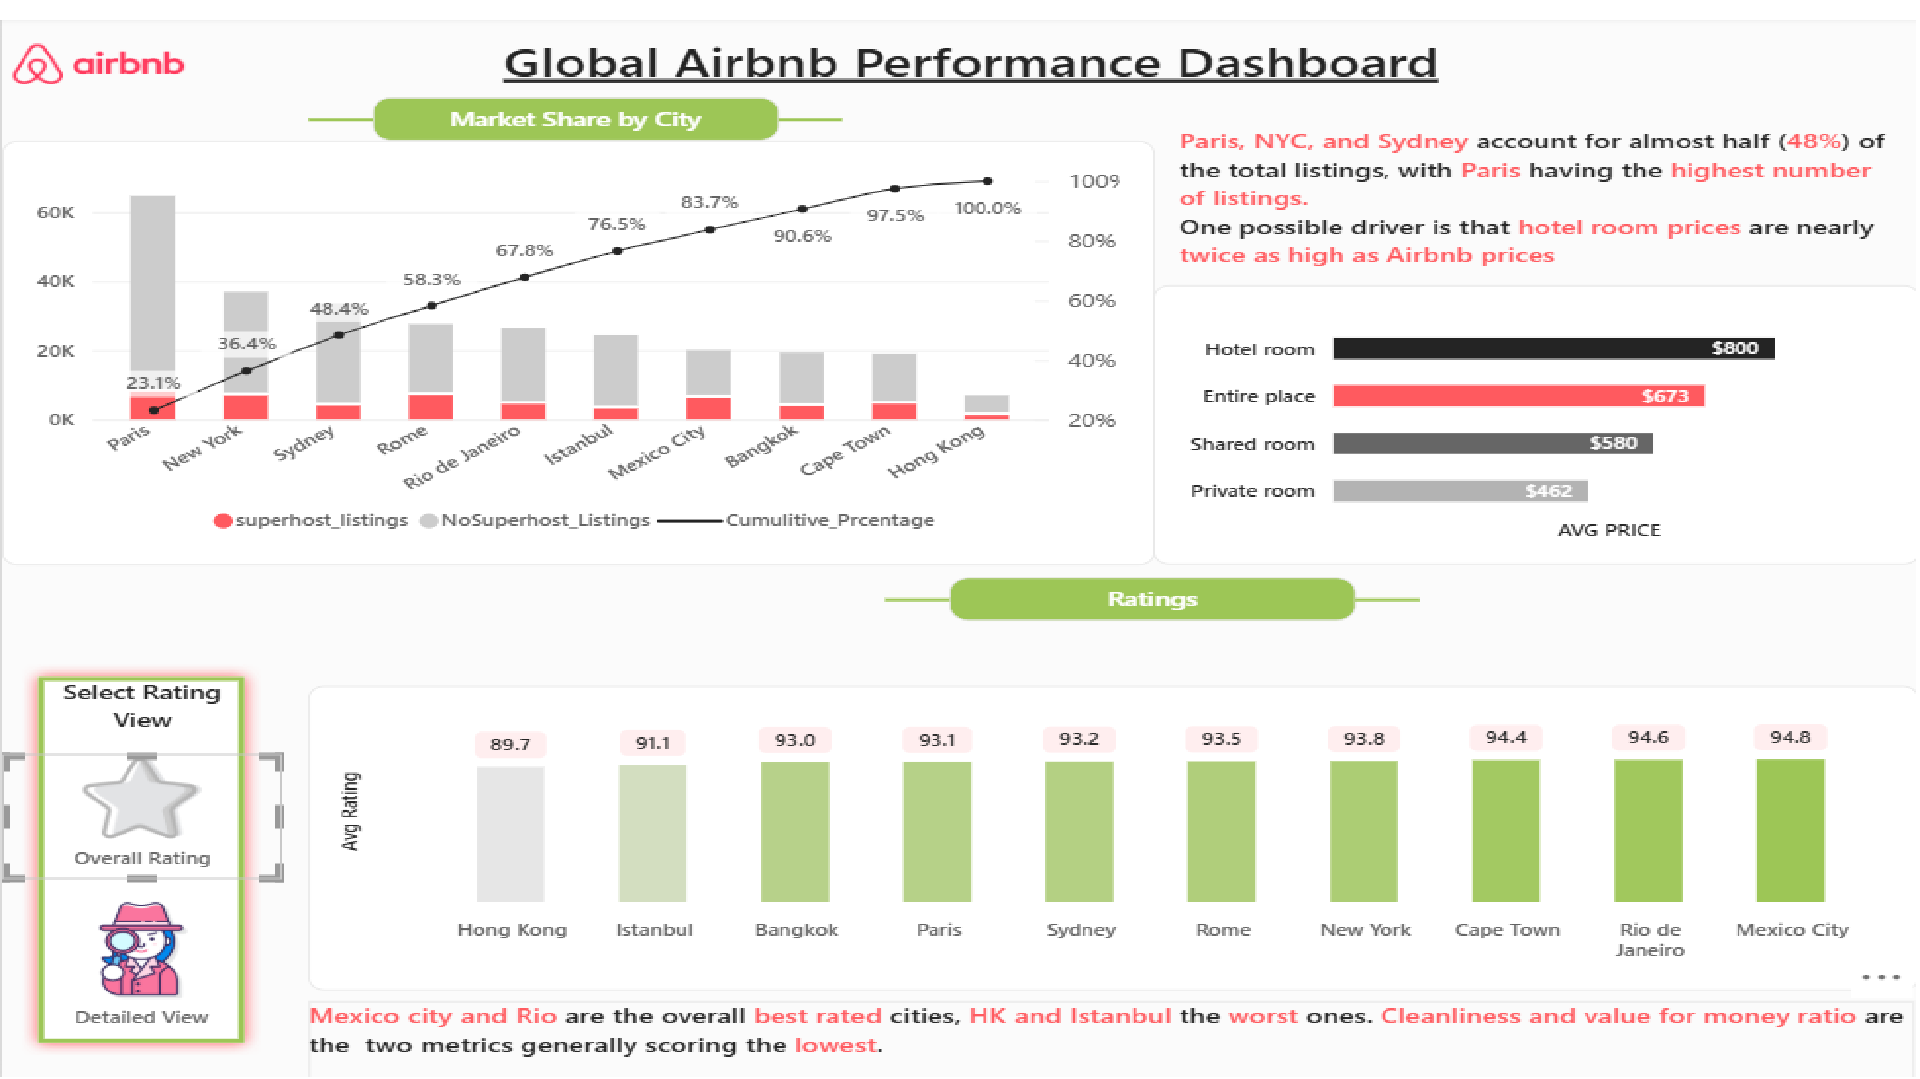

What the dashboard file says about the page in this screenshot:
{"tool":"powerbi","page":{"name":"Ratings","canvas":[960,720],"ordinal":1},"visuals":[{"type":"textbox","box":[10.2,12.8,949.4,66.6],"z":0},{"type":"image","box":[0,497,140.9,58.9],"z":0,"group":"g3"},{"type":"group","id":"g1","title":"Group 2","box":[21.8,595.7,98.7,67.9],"z":0,"group":"g2"},{"type":"image","box":[21.8,595.7,98.7,67.9],"z":0,"group":"g1"},{"type":"image","box":[0,19.2,97.4,26.9],"z":1000},{"type":"textbox","box":[21.8,555.9,97.4,25.6],"z":1000,"group":"g3"},{"type":"textbox","box":[21,664,99,21],"z":1000,"group":"g2"},{"type":"textbox","box":[185.8,55.1,203.7,29.5],"z":2000},{"type":"shape","box":[153.3,54.9,32.1,30],"z":3000},{"type":"shape","box":[388.4,54.9,32.1,30],"z":4000},{"type":"lineStackedColumnComboChart","fields":{"Category":["Listings.city"],"Y":["Listings.superhost_listings","Listings.Nosuperhost_Listings"],"Y2":["Listings.Cumulitive_Prcentage"]},"box":[0,84.6,576.5,285.7],"z":5000},{"type":"barChart","fields":{"Category":["Listings.room_type"],"Y":["Listings.AVG PRICE"]},"box":[576.5,181.9,383.1,188.3],"z":6000},{"type":"textbox","box":[589.3,55.1,358.8,147.5],"z":7000},{"type":"textbox","box":[474,377.9,203.7,29.5],"z":8000},{"type":"shape","box":[442,377.9,32.1,30],"z":9000},{"type":"shape","box":[677.7,377.9,32.1,30],"z":10000},{"type":"pivotTable","fields":{"Rows":["Listings.city"],"Values":["Listings.Accuracy","Listings.Cleanliness","Listings.Communication","Listings.Location","Listings.Value"]},"box":[153.7,407.4,805.9,256.2],"z":12000},{"type":"shape","box":[10.2,436.9,119.1,262.6],"z":13000},{"type":"textbox","box":[21,444,99,40],"z":14000},{"type":"group","id":"g2","title":"Group 3","box":[21,595.7,99.4,89.3],"z":15000},{"type":"group","id":"g3","title":"Group 1","box":[0,497,140.9,84.6],"z":16000},{"type":"textbox","box":[153.7,663.6,803.3,56.4],"z":17000}]}

Visuals, with their boxes on the page's 960x720 design canvas (x1, y1, x2, y2). These are canvas units, not pixel positions in the 1920x1079 screenshot, which may show the page scaled, cropped or inside an application window:
textbox: [10, 13, 960, 79]
image: [0, 497, 141, 556]
"Group 2" group: [22, 596, 120, 664]
image: [22, 596, 120, 664]
image: [0, 19, 97, 46]
textbox: [22, 556, 119, 582]
textbox: [21, 664, 120, 685]
textbox: [186, 55, 390, 85]
shape: [153, 55, 185, 85]
shape: [388, 55, 420, 85]
lineStackedColumnComboChart - Listings.city x Listings.superhost_listings: [0, 85, 576, 370]
barChart - Listings.room_type x Listings.AVG PRICE: [576, 182, 960, 370]
textbox: [589, 55, 948, 203]
textbox: [474, 378, 678, 407]
shape: [442, 378, 474, 408]
shape: [678, 378, 710, 408]
pivotTable - Listings.city x Listings.Accuracy: [154, 407, 960, 664]
shape: [10, 437, 129, 700]
textbox: [21, 444, 120, 484]
"Group 3" group: [21, 596, 120, 685]
"Group 1" group: [0, 497, 141, 582]
textbox: [154, 664, 957, 720]
